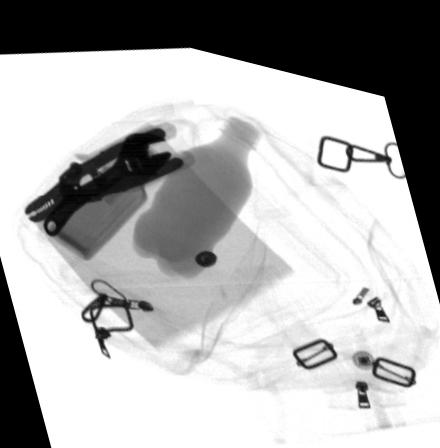Pliers: (23, 112, 198, 221)
Wrench: (42, 126, 173, 232)
